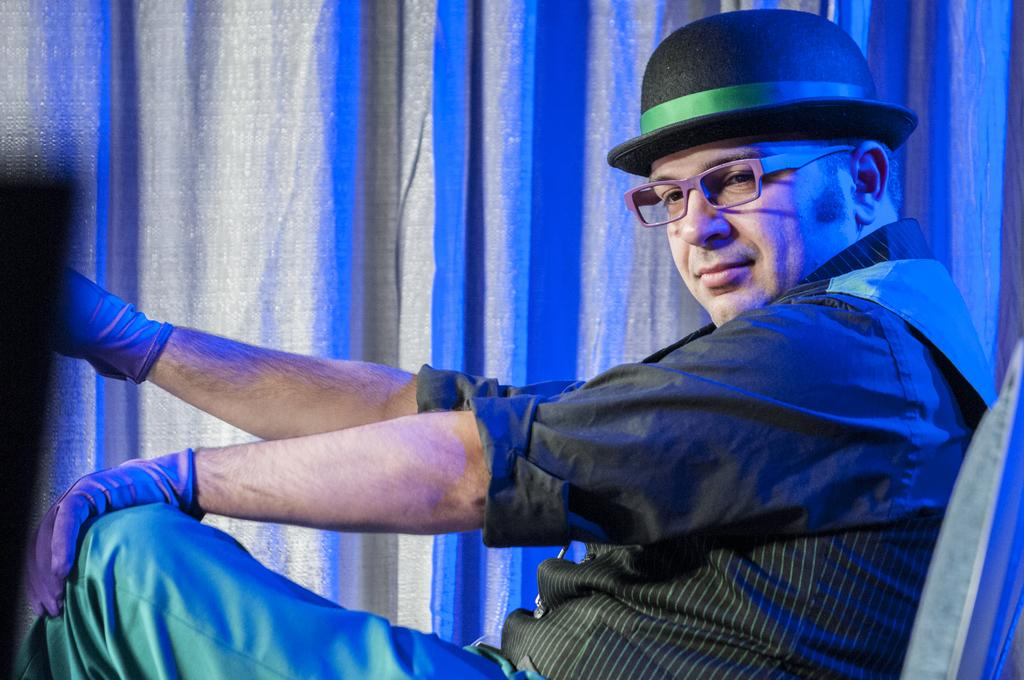Hat: (603, 8, 918, 176)
